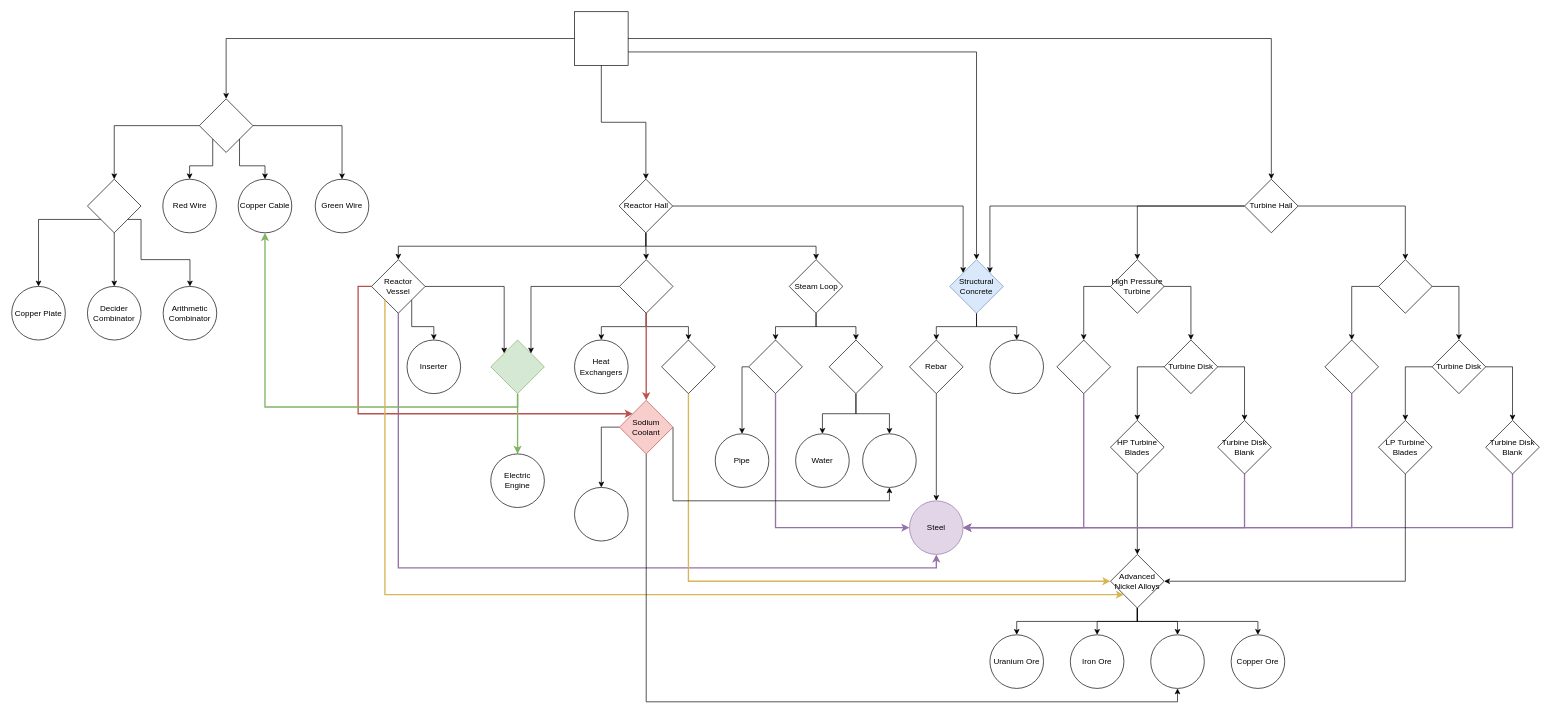
The diagram is 1551 pixels wide and 719 high, and some of its shapes have lost their labels. Here are the shapes that lost their labels. From the top down, the centre of each, then its label:
point 601,38: LMR
point 226,125: Electric Grid Interface
point 114,206: Switchgear
point 646,286: Heat Exchange Loop
point 1405,286: Low Pressure Turbine
point 517,366: Electromagnetic Pump
point 688,366: Corrosion Resistant Pipe
point 775,366: Steam Generator
point 855,366: Purified Water Tank
point 1016,366: Concrete
point 1083,366: HP Turbine Shaft
point 1351,366: LP Turbine Shaft
point 889,460: Storage Tank
point 601,514: Light Oil
point 1177,661: Stone
